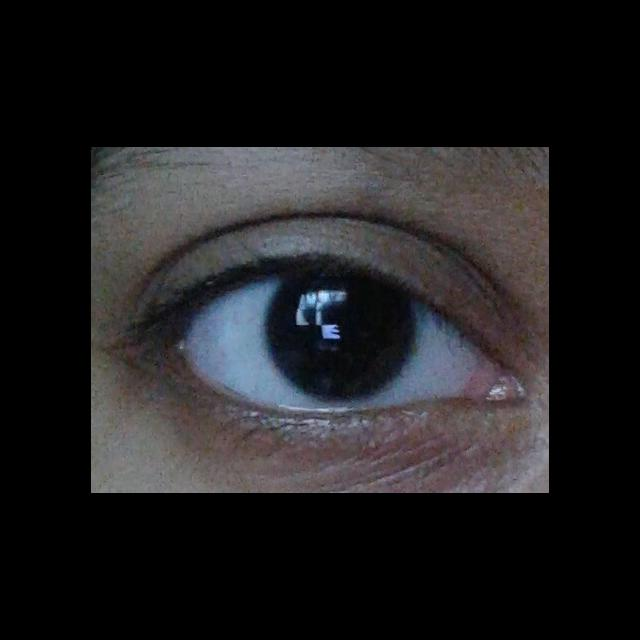eye: (180, 268, 500, 410)
iris: (264, 275, 413, 401)
